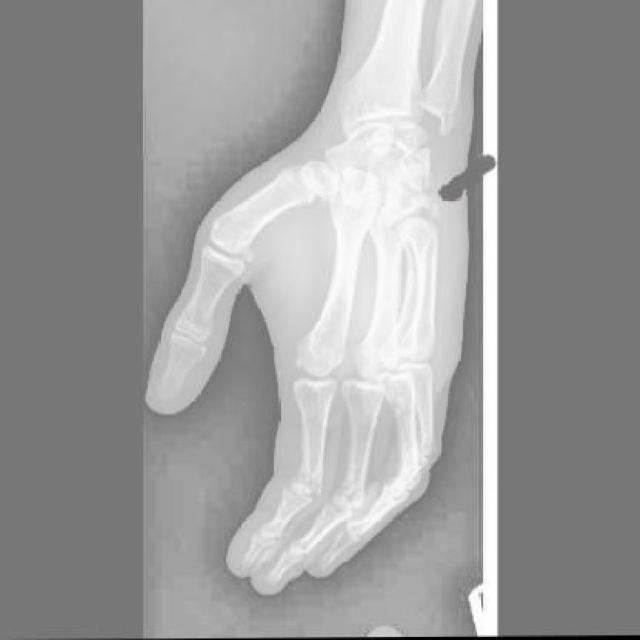Fracture: (414, 191, 439, 225)
